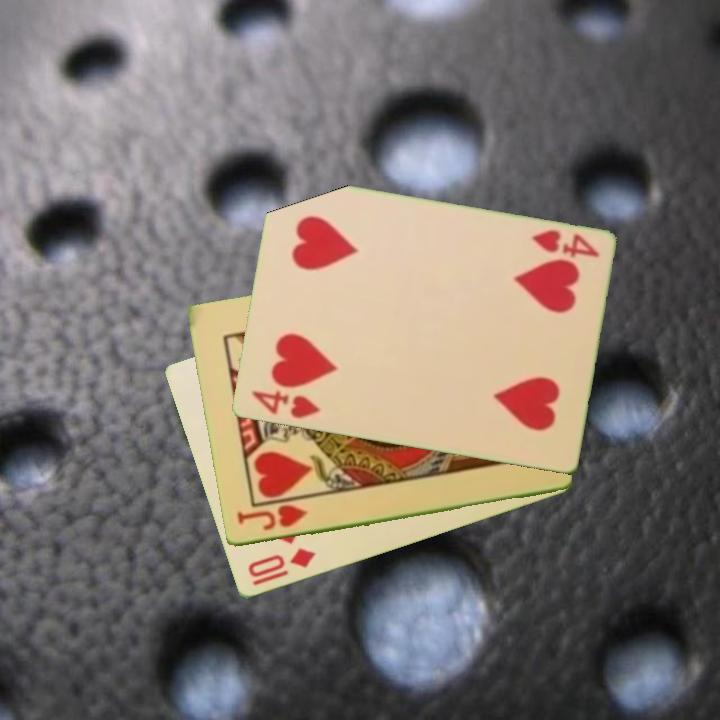10d: (244, 545, 319, 581)
4h: (527, 226, 603, 261), (247, 387, 322, 422)
Jh: (233, 501, 310, 534)
